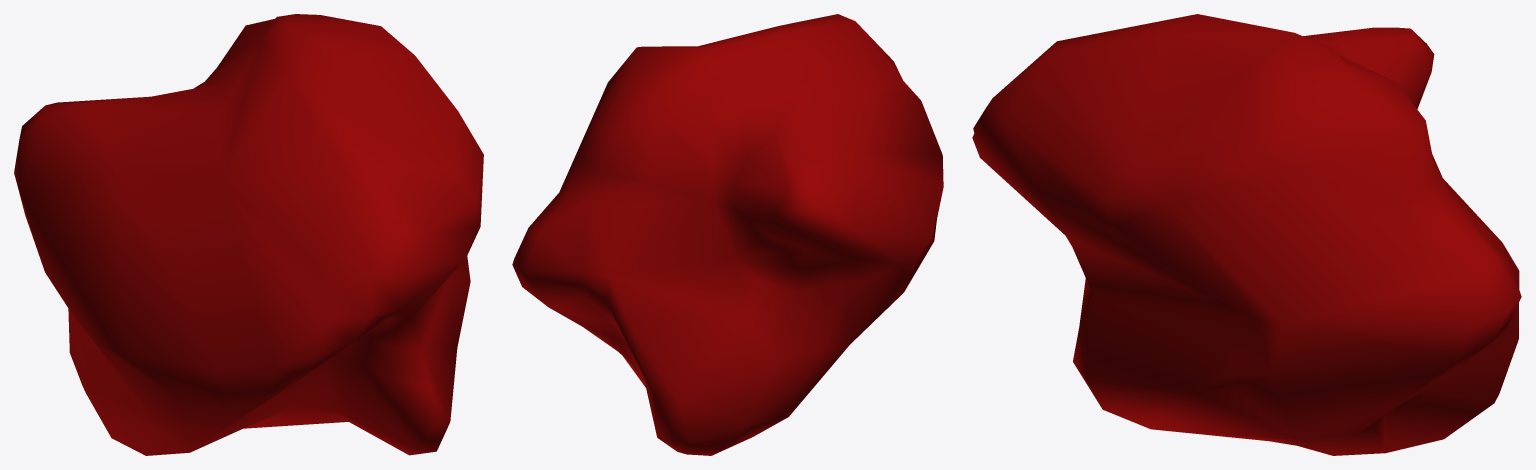
The model's file is Asteroid4.FBX.
The picture shows the model from 3 angles, left to right: view 1: azimuth 30°, elevation 25°; view 2: azimuth 150°, elevation 25°; view 3: azimuth 270°, elevation 25°; orthographic projection. The views are drawn at different scales.
Parts seen in each view (by area): view 1: Sphere08; view 2: Sphere08; view 3: Sphere08.
Part boxes in pixels (x1,y1,x2,y2): Sphere08: [14, 14, 483, 455]; Sphere08: [512, 14, 943, 455]; Sphere08: [972, 14, 1521, 455].
Size of the model in its own units: 642 by 680 by 786.
